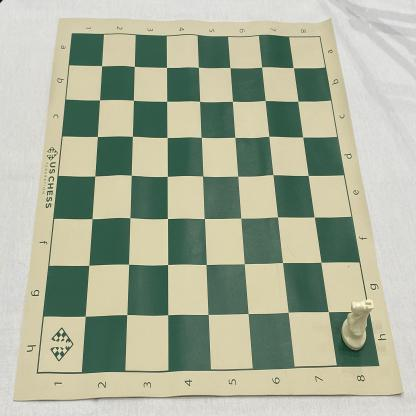white-knight: (340, 299, 374, 352)
